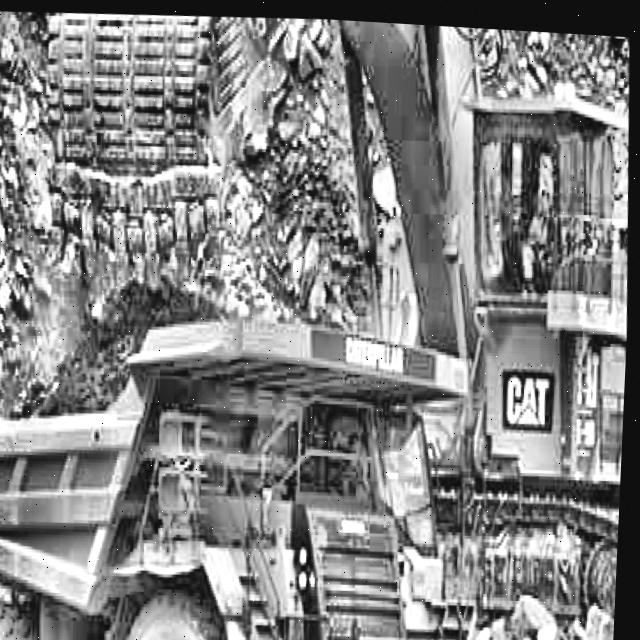dump_truck: (0, 272, 459, 640)
excavator: (19, 2, 640, 639)
